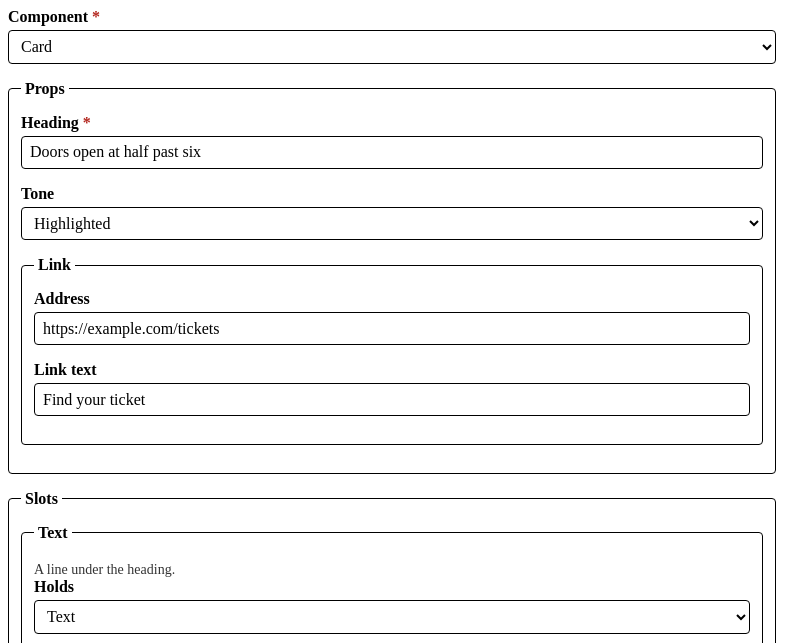
Test: a key deferred for its size › fetches the chosen variant with choose and narrows from it, asking no narrowing
Check: the field labelled "Heading*" is shown, box top-left (21, 136), bottom-right (763, 169)
Select "Hero" in the dropdown labelled "Component*": point(392, 47) top-left (8, 30), bottom-right (776, 64)
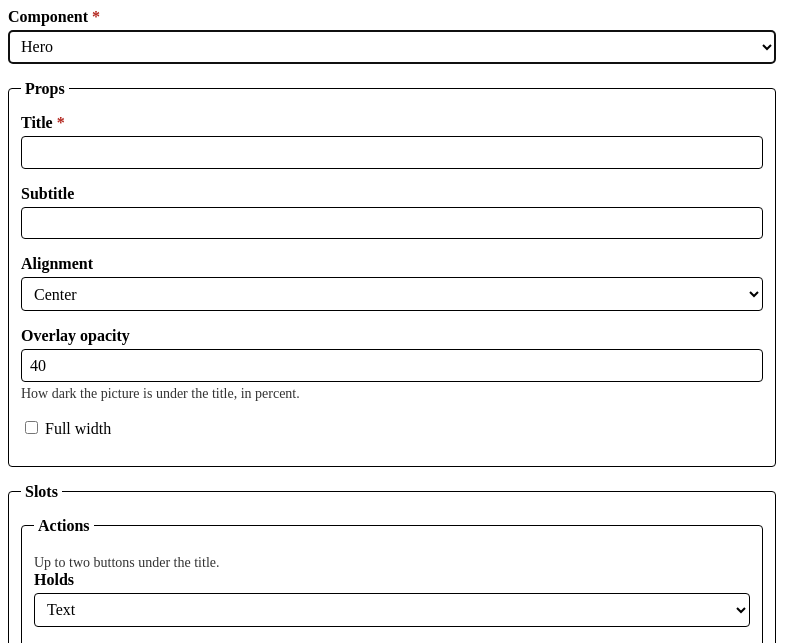
Check: the field labelled "Subtitle" is shown, box top-left (21, 207), bottom-right (763, 239)
Check: the label labelled "Heading" is gone
